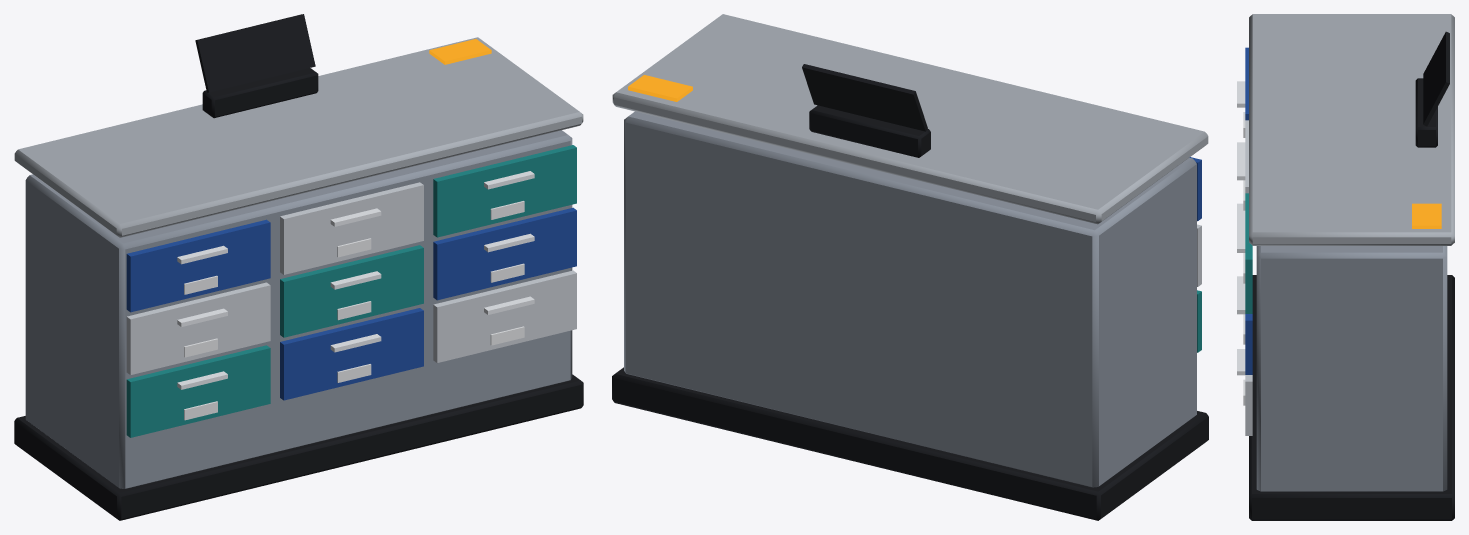
Rendered from desk_drawer_console.glb.
3 renders of one model, left to right at view 1: azimuth 30°, elevation 25°; view 2: azimuth 150°, elevation 25°; view 3: azimuth 270°, elevation 25°, orthographic. The views are drawn at different scales.
Visible parts, largest first — view 1: desk_drawer_console; view 2: desk_drawer_console; view 3: desk_drawer_console.
Boxes of the visible parts, box(x1,y1,x2,y2) form: desk_drawer_console: box(14, 14, 583, 520); desk_drawer_console: box(612, 14, 1208, 520); desk_drawer_console: box(1237, 14, 1454, 520).
Size of the model in its own units: 1.4 by 1.05 by 0.582.
